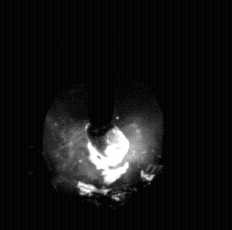arame: (90, 0, 115, 156)
poca: (42, 0, 161, 230)
